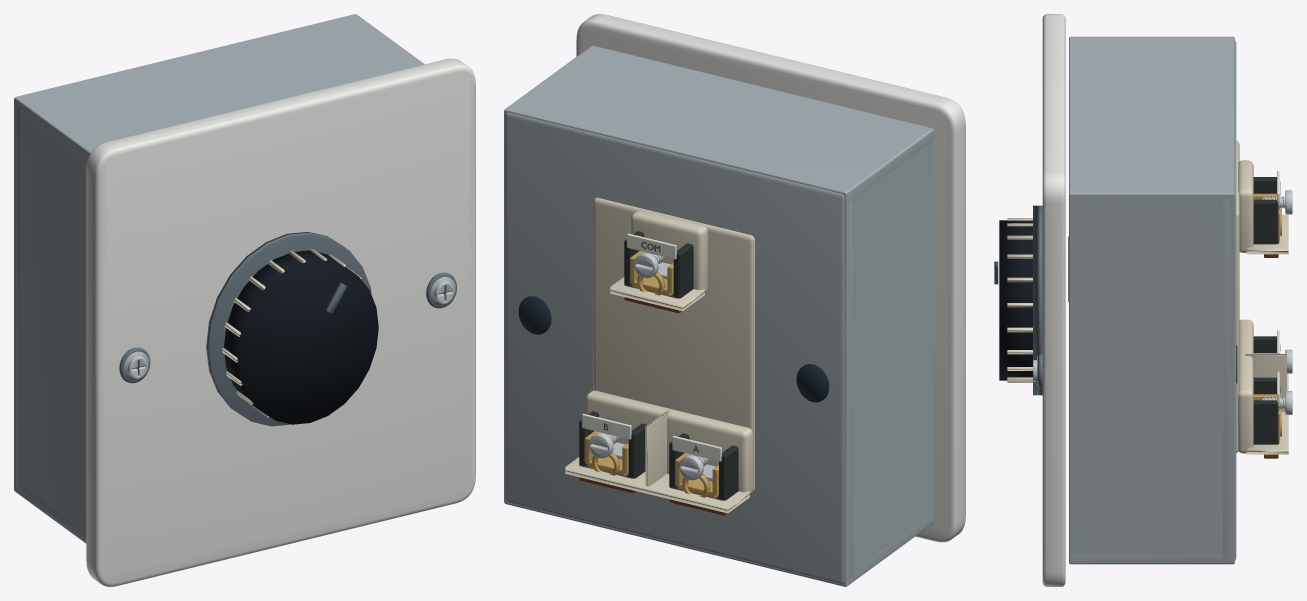
File: selector_rotary.glb
3 renders of one model, left to right at view 1: azimuth 30°, elevation 25°; view 2: azimuth 150°, elevation 25°; view 3: azimuth 270°, elevation 25°, orthographic. The views are drawn at different scales.
Parts seen in each view (by area): view 1: part:cover, part:body · Original 2a8198d3, part:actuator, motion:rotary · Original 5a609f27, detail:faceplate-fixing · Detail zinc plated fixing, part:cover · Original 0905ee26; view 2: part:body · Original 2a8198d3, part:terminals · Original 5a609f27, part:cover, part:body · Original a463fd81, detail:terminal-clamp:COM · Detail moulded engineering polym, detail:terminal-clamp:A · Detail moulded engineering polymer, detail:terminal-clamp:B · Detail moulded engineering polymer, detail:terminal-clamp:B · Detail machined brass, detail:terminal-clamp:A · Detail machined brass, detail:terminal-clamp:COM · Detail machined brass, Moulded terminal legend pad.001, Moulded terminal legend pad.002 (+4 smaller); view 3: part:body · Original 2a8198d3, part:cover, part:terminals · Original 5a609f27, part:actuator, detail:terminal-clamp:B · Detail moulded engineering polymer, detail:terminal-clamp:COM · Detail moulded engineering polym, motion:rotary · Original 5a609f27, detail:terminal-clamp:A · Detail moulded engineering polymer.
Part boxes in pixels (left/top/right/bottom): part:cover: left=86, top=58, right=475, bottom=586; part:body · Original 2a8198d3: left=14, top=14, right=424, bottom=543; part:actuator: left=206, top=232, right=378, bottom=426; motion:rotary · Original 5a609f27: left=222, top=248, right=362, bottom=417; detail:faceplate-fixing · Detail zinc plated fixing: left=127, top=281, right=454, bottom=378; part:cover · Original 0905ee26: left=119, top=272, right=456, bottom=383; part:body · Original 2a8198d3: left=504, top=45, right=933, bottom=586; part:terminals · Original 5a609f27: left=565, top=197, right=754, bottom=513; part:cover: left=576, top=14, right=965, bottom=542; part:body · Original a463fd81: left=518, top=296, right=829, bottom=402; detail:terminal-clamp:COM · Detail moulded engineering polym: left=624, top=231, right=693, bottom=298; detail:terminal-clamp:A · Detail moulded engineering polymer: left=669, top=433, right=738, bottom=500; detail:terminal-clamp:B · Detail moulded engineering polymer: left=579, top=411, right=646, bottom=478; detail:terminal-clamp:B · Detail machined brass: left=584, top=431, right=628, bottom=476; detail:terminal-clamp:A · Detail machined brass: left=675, top=453, right=718, bottom=498; detail:terminal-clamp:COM · Detail machined brass: left=630, top=251, right=673, bottom=296; Moulded terminal legend pad.001: left=672, top=435, right=721, bottom=461; Moulded terminal legend pad.002: left=582, top=413, right=631, bottom=439; part:body · Original 2a8198d3: left=1069, top=36, right=1236, bottom=564; part:cover: left=1042, top=14, right=1065, bottom=586; part:terminals · Original 5a609f27: left=1236, top=140, right=1288, bottom=454; part:actuator: left=999, top=205, right=1042, bottom=395; detail:terminal-clamp:B · Detail moulded engineering polymer: left=1253, top=377, right=1279, bottom=444; detail:terminal-clamp:COM · Detail moulded engineering polym: left=1253, top=177, right=1279, bottom=244; motion:rotary · Original 5a609f27: left=1007, top=218, right=1032, bottom=382; detail:terminal-clamp:A · Detail moulded engineering polymer: left=1253, top=336, right=1276, bottom=352.
Bounding box in the file's own units: 0.8918 × 0.9813 × 0.6439.
